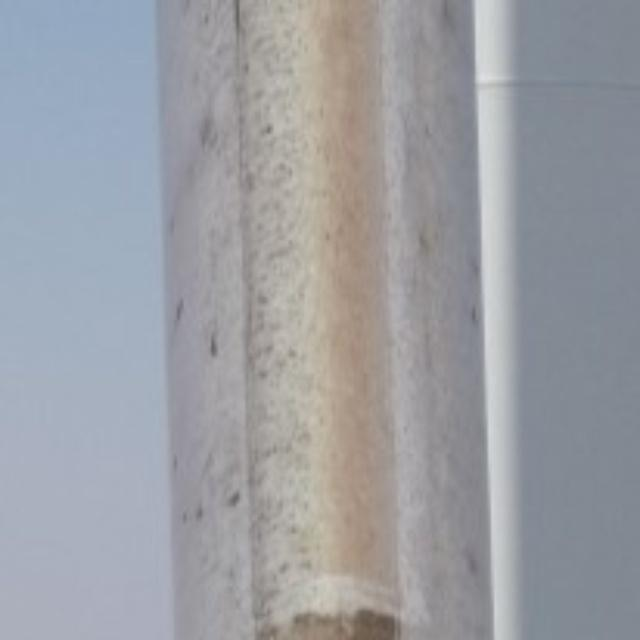PU-tape: (256, 605, 400, 640)
